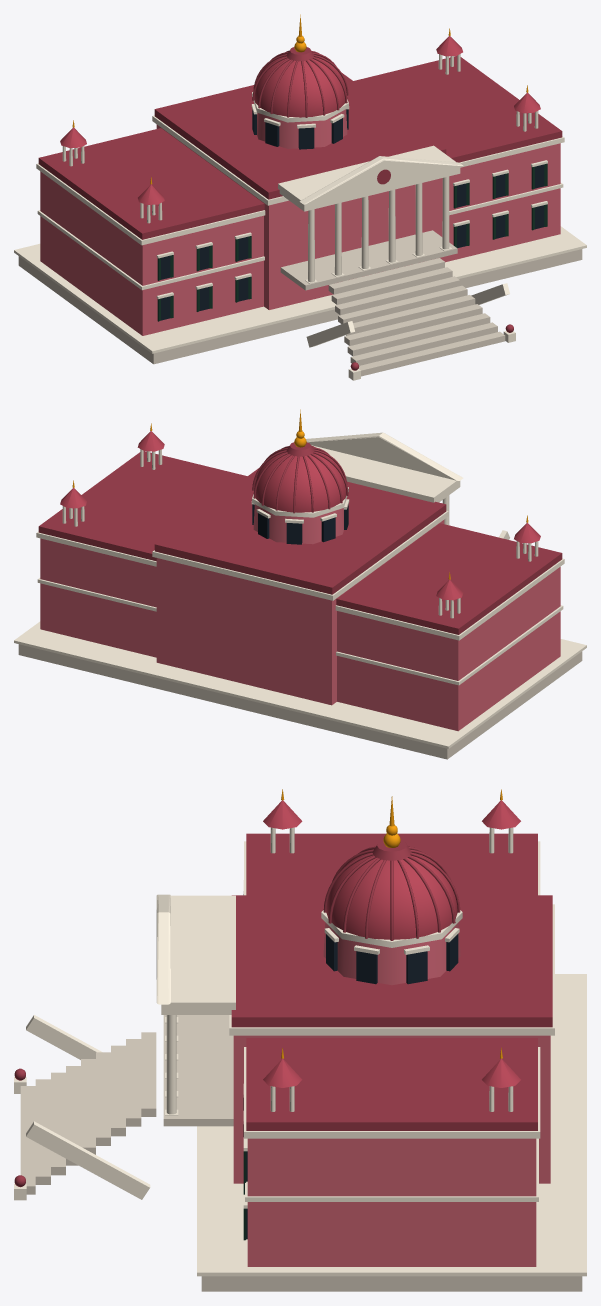
Rendered from dhaka_landmark_ahsan_manzil.glb.
3 views of the same model, one above another, from view 1: azimuth 30°, elevation 25°; view 2: azimuth 150°, elevation 25°; view 3: azimuth 270°, elevation 25° (orthographic). The views are drawn at different scales.
Visible parts, largest first — view 1: Wing_West, object 7, object 13, object 11, object 3, object 2, Wing_East, Plinth, Ahsan_Dome, object 14, object 33, object 34 (+27 smaller); view 2: Wing_West, object 3, object 13, object 7, object 11, Wing_East, object 2, Plinth, Ahsan_Dome, object 33, object 34, object 12 (+10 smaller); view 3: Wing_East, object 13, object 11, object 2, object 7, object 33, Ahsan_Dome, object 14, Plinth, object 3, object 12, Dome_Drum (+22 smaller).
Boxes of the visible parts, x1,y1,x2,y2 form: Wing_West: [40, 171, 263, 335]; object 7: [38, 128, 264, 239]; object 13: [154, 73, 446, 199]; object 11: [353, 56, 562, 162]; object 3: [156, 124, 444, 309]; object 2: [14, 226, 586, 353]; Wing_East: [444, 143, 560, 262]; Plinth: [18, 249, 582, 364]; Ahsan_Dome: [254, 56, 346, 117]; object 14: [280, 230, 457, 290]; object 33: [278, 145, 460, 211]; object 34: [299, 156, 463, 204]; Wing_West: [337, 567, 560, 731]; object 3: [156, 520, 444, 705]; object 13: [154, 468, 446, 594]; object 7: [336, 523, 562, 634]; object 11: [38, 451, 247, 561]; Wing_East: [40, 538, 156, 657]; object 2: [14, 621, 586, 748]; Plinth: [18, 644, 582, 759]; Ahsan_Dome: [254, 451, 346, 512]; object 33: [311, 445, 460, 502]; object 34: [306, 432, 463, 480]; object 12: [152, 510, 448, 600]; Wing_East: [247, 1138, 536, 1266]; object 13: [231, 895, 552, 1027]; object 11: [246, 1038, 537, 1130]; object 2: [197, 974, 586, 1276]; object 7: [246, 833, 537, 895]; object 33: [161, 895, 235, 1014]; Ahsan_Dome: [326, 853, 457, 939]; object 14: [163, 1015, 233, 1126]; Plinth: [201, 1276, 582, 1291]; object 3: [233, 1035, 550, 1183]; object 12: [229, 904, 554, 1035]; Dome_Drum: [323, 922, 460, 985].
Bounding box in the file's own units: 44.6 × 24.43 × 36.15.
